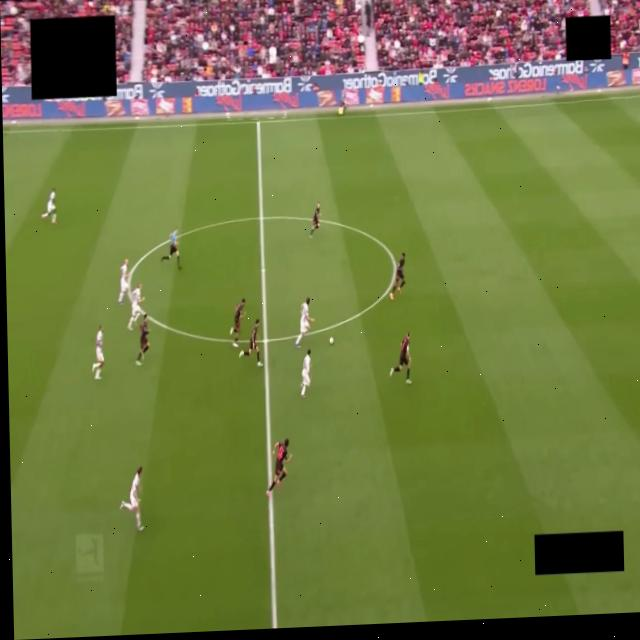ball: (329, 338, 333, 345)
player: (266, 439, 291, 497), (120, 467, 142, 530), (239, 319, 261, 367), (390, 333, 410, 384), (295, 299, 313, 348), (230, 298, 247, 348), (127, 284, 143, 330), (389, 253, 404, 301), (135, 314, 149, 365), (92, 326, 103, 379), (41, 189, 55, 223), (118, 259, 128, 305), (301, 350, 310, 397), (309, 203, 319, 237)
referee: (161, 229, 180, 269)
